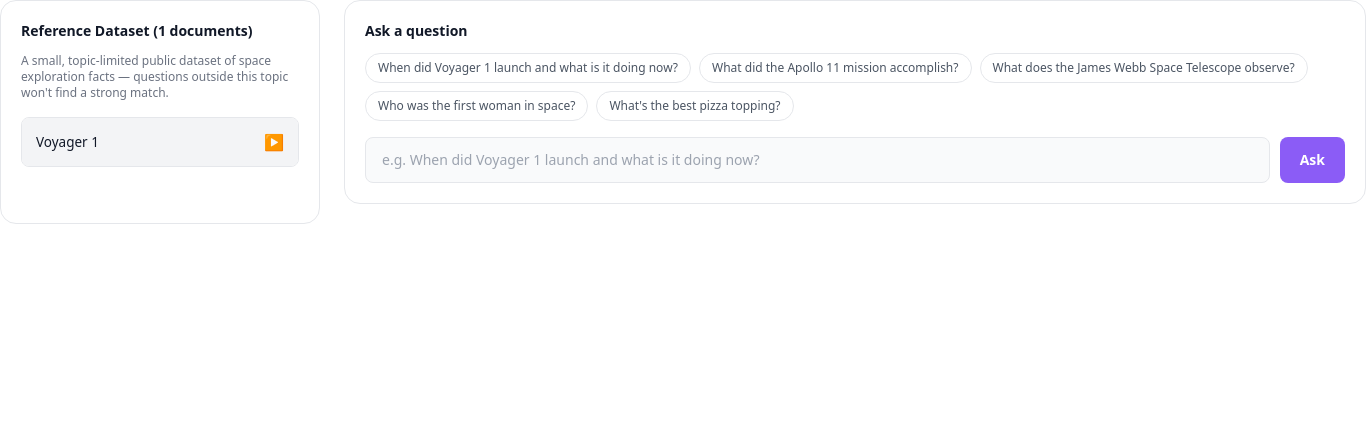
RagApp › renders a markdown answer as formatted elements
Step 1. Type "When did Voyager 1 launch?" into the field with placeholder "e.g. When did Voyager 1 launch and what is it doing now?" → (817, 160), box [365,137,1270,183]
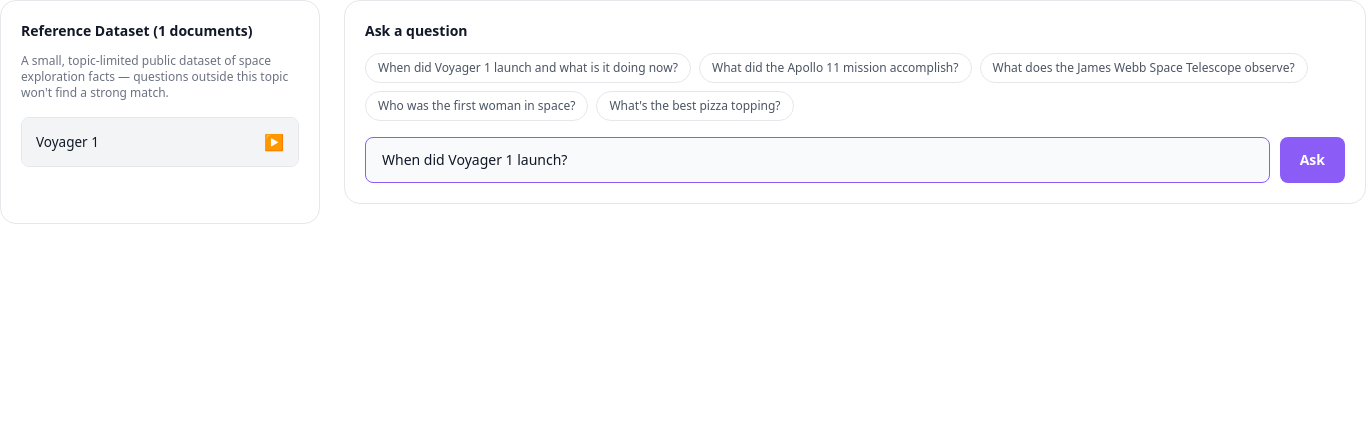
Step 2. Click the button "Ask" → (1312, 160), box [1280,137,1345,183]
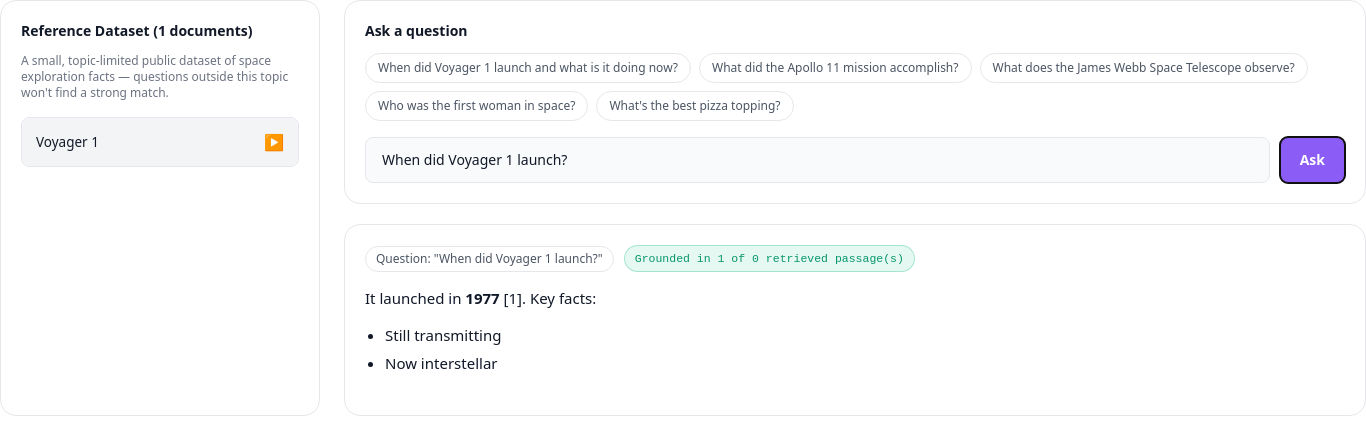
Result: the number of list items is 2 at [385,325,501,345]; [385,353,498,373]
Result: the text "It launched in 1977 [1]. Key facts:" is shown at [365,288,596,308]
